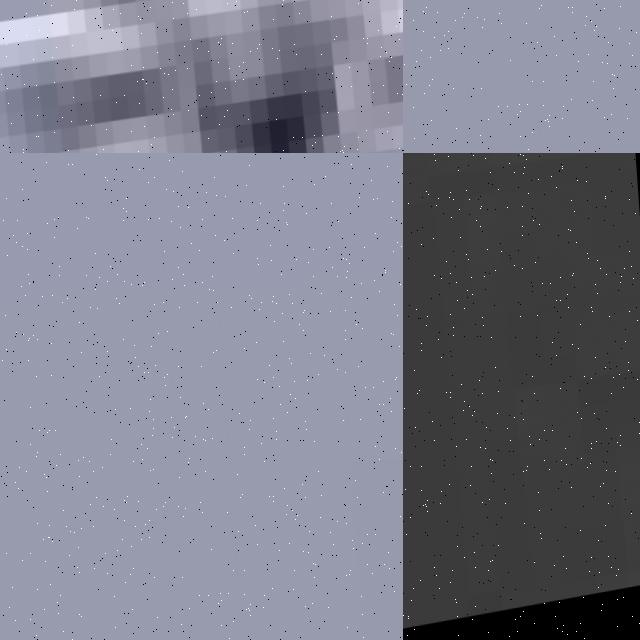0: (0, 0, 403, 153)
drone: (403, 153, 640, 640)
